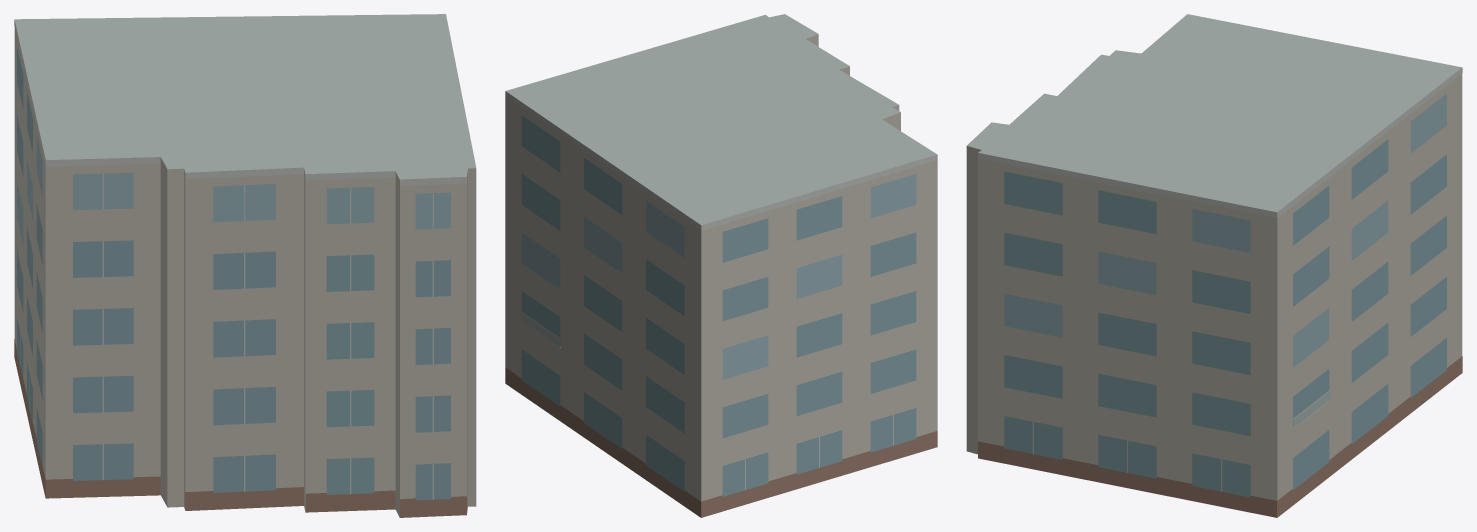
The model's file is survey-upis-32497140.glb.
3 views of the same model, side by side, from view 1: azimuth 30°, elevation 25°; view 2: azimuth 150°, elevation 25°; view 3: azimuth 270°, elevation 25° (orthographic). The views are drawn at different scales.
Visible parts, largest first — view 1: survey-upis-32497140.tmp; view 2: survey-upis-32497140.tmp; view 3: survey-upis-32497140.tmp.
Boxes of the visible parts, left/top/right/bottom form: survey-upis-32497140.tmp: left=14, top=14, right=476, bottom=517; survey-upis-32497140.tmp: left=505, top=14, right=937, bottom=517; survey-upis-32497140.tmp: left=966, top=14, right=1462, bottom=517.
Bounding box in the file's own units: 17.7 × 12.71 × 18.7.
